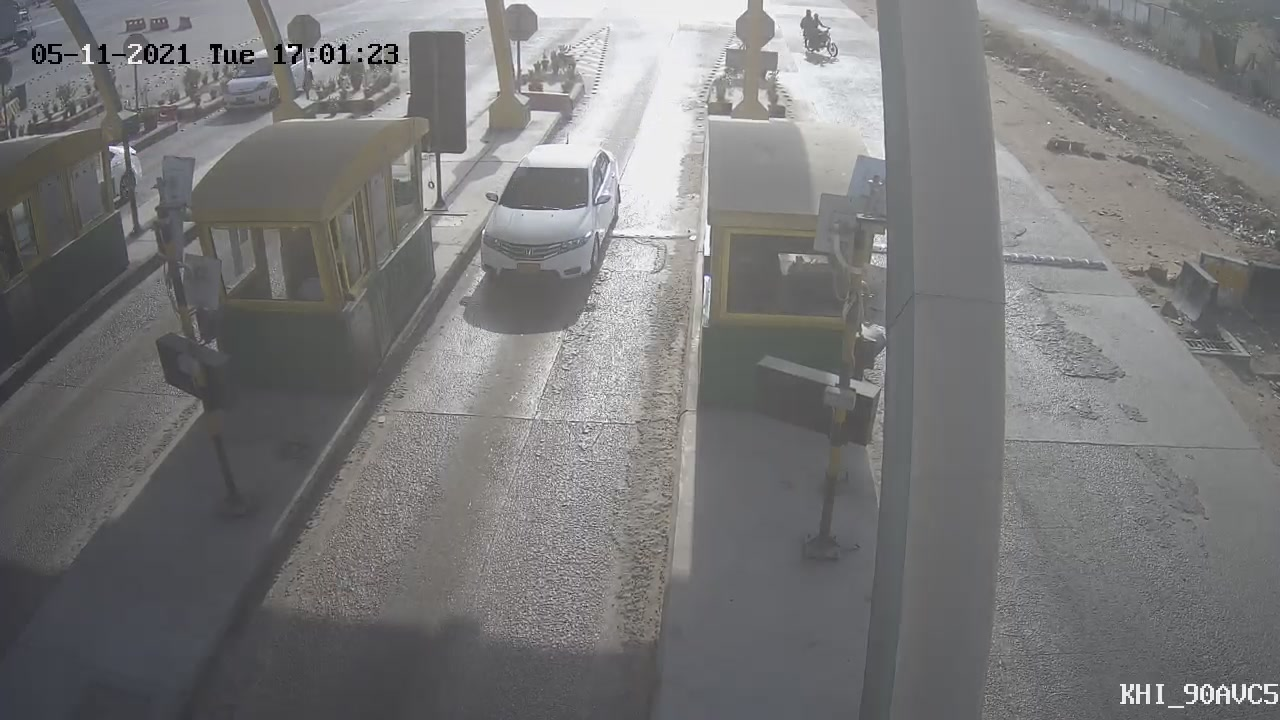F1: (451, 126, 640, 314)
